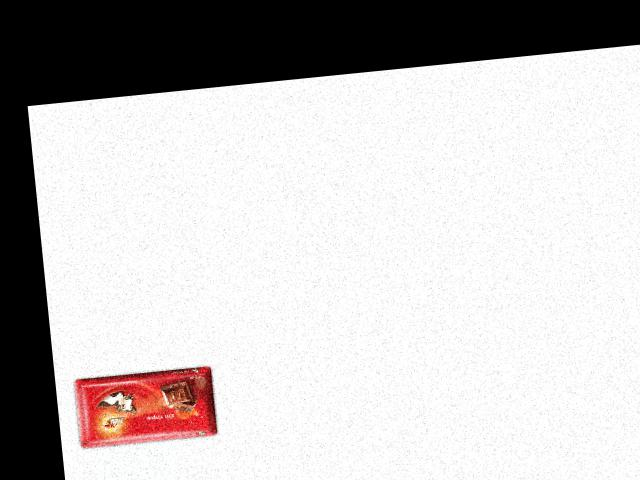chocolate: (65, 360, 220, 449)
